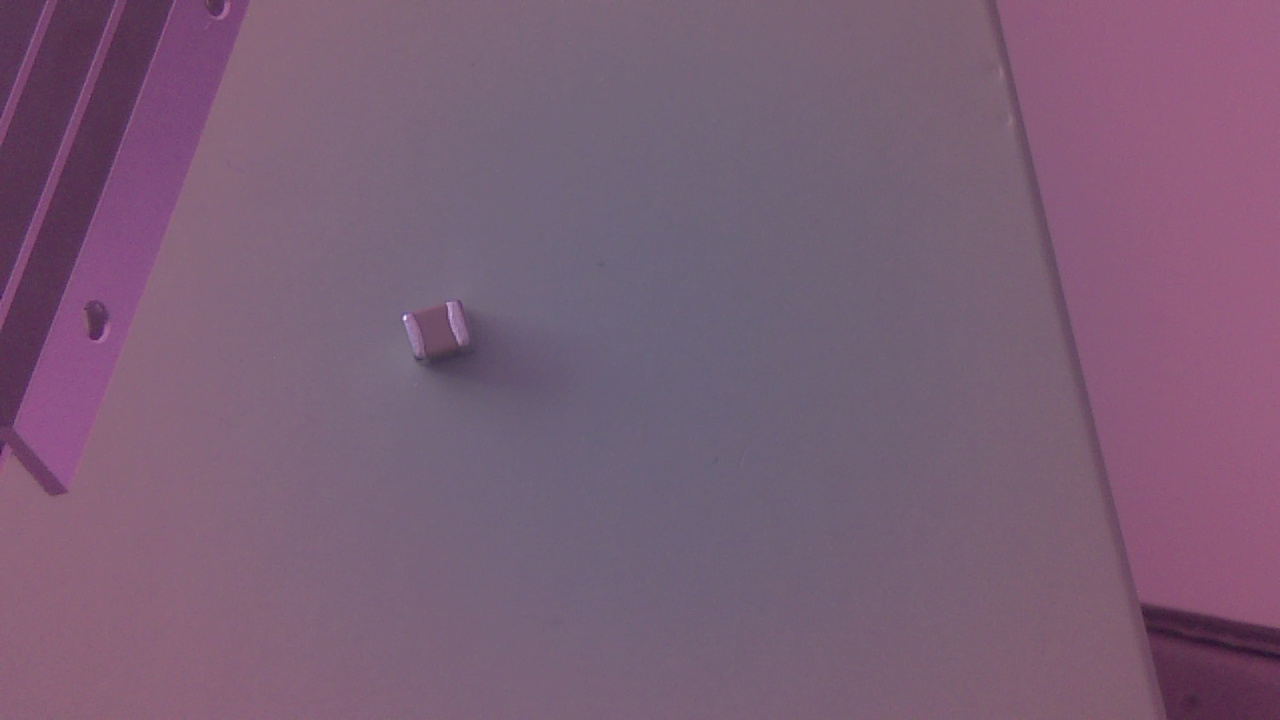Condensator: (397, 300, 484, 374)
